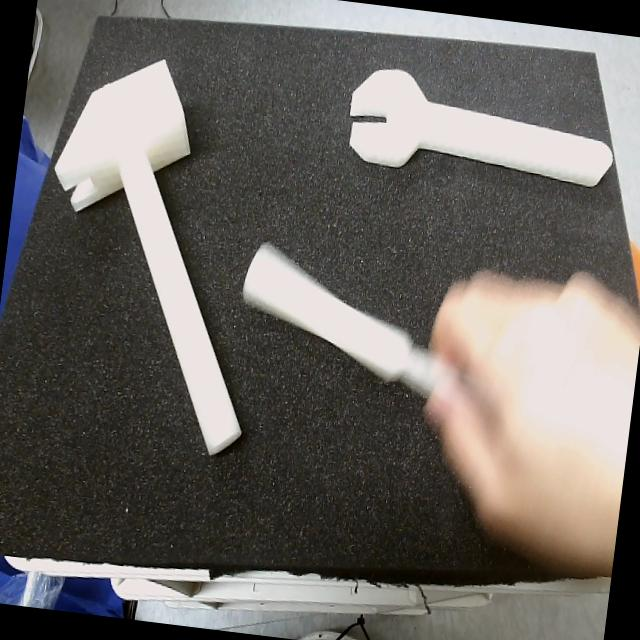Hammer: (52, 58, 241, 457)
Spanner: (346, 68, 614, 190)
